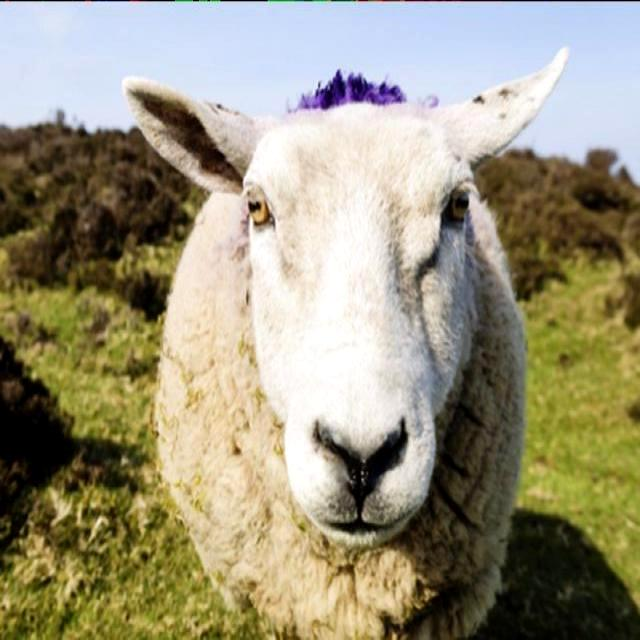sheep: (120, 48, 572, 640)
